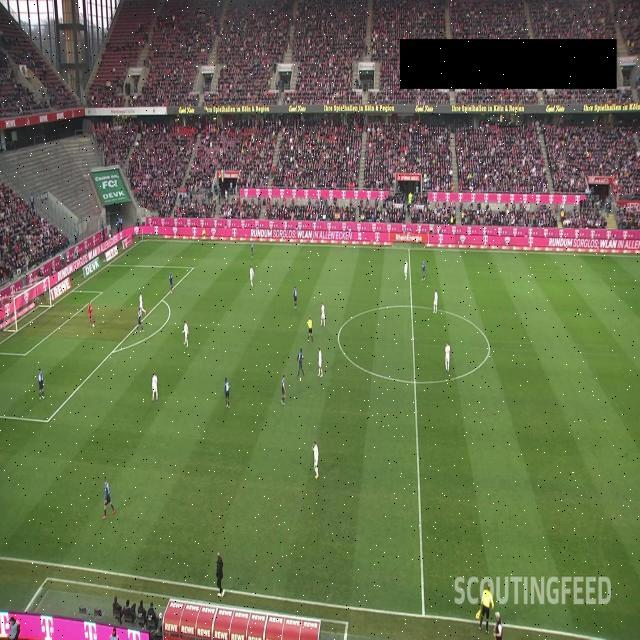Ball: (92, 323, 95, 327)
Corner: (140, 225, 146, 244)
GoalKeeper: (88, 300, 94, 328)
Referee: (478, 582, 494, 634), (306, 316, 314, 342), (202, 228, 208, 243)
TEAM 1: (310, 440, 320, 480), (182, 320, 189, 348), (138, 292, 146, 316), (152, 371, 158, 402), (317, 347, 323, 377), (445, 342, 451, 372), (320, 302, 326, 328), (433, 288, 439, 314), (403, 259, 408, 281), (250, 264, 254, 288)
TEAM 2: (102, 478, 116, 520), (136, 304, 146, 332), (298, 347, 306, 379), (37, 368, 44, 400), (224, 377, 230, 409), (281, 374, 287, 404), (168, 272, 174, 294), (422, 260, 428, 281), (293, 285, 297, 310), (250, 243, 254, 259)
